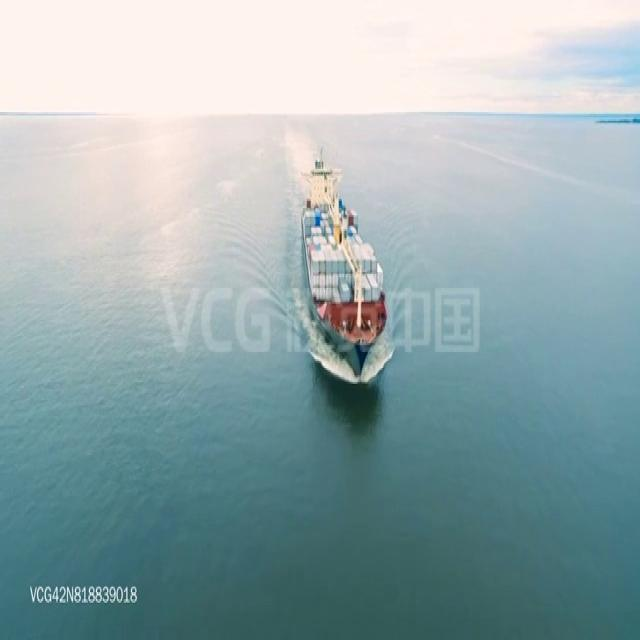cargoship: (299, 148, 388, 373)
